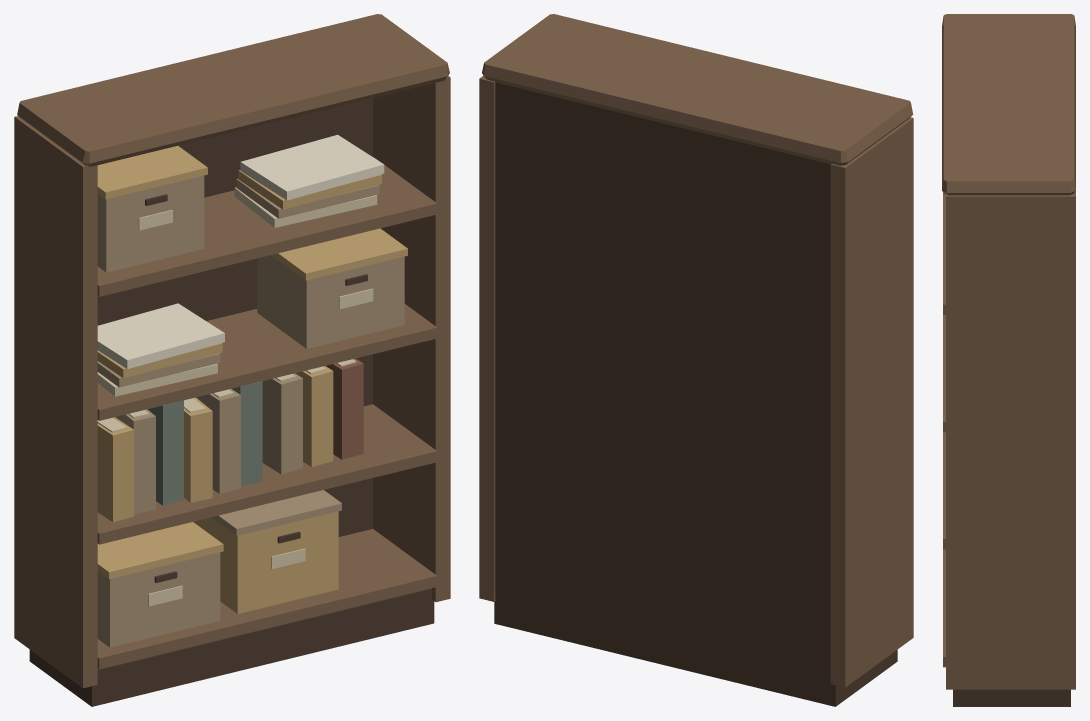
File: Bell_ContractsShelf.fbx
The picture shows the model from 3 angles, left to right: view 1: azimuth 30°, elevation 25°; view 2: azimuth 150°, elevation 25°; view 3: azimuth 270°, elevation 25°; orthographic projection. The views are drawn at different scales.
Visible parts, largest first — view 1: Bell_ContractsShelf; view 2: Bell_ContractsShelf; view 3: Bell_ContractsShelf.
Part boxes in pixels (bbox=[...]): Bell_ContractsShelf: bbox=[14, 14, 450, 706]; Bell_ContractsShelf: bbox=[479, 14, 913, 706]; Bell_ContractsShelf: bbox=[942, 14, 1075, 706].
Bounding box in the file's own units: 1.2 × 1.75 × 0.4.
